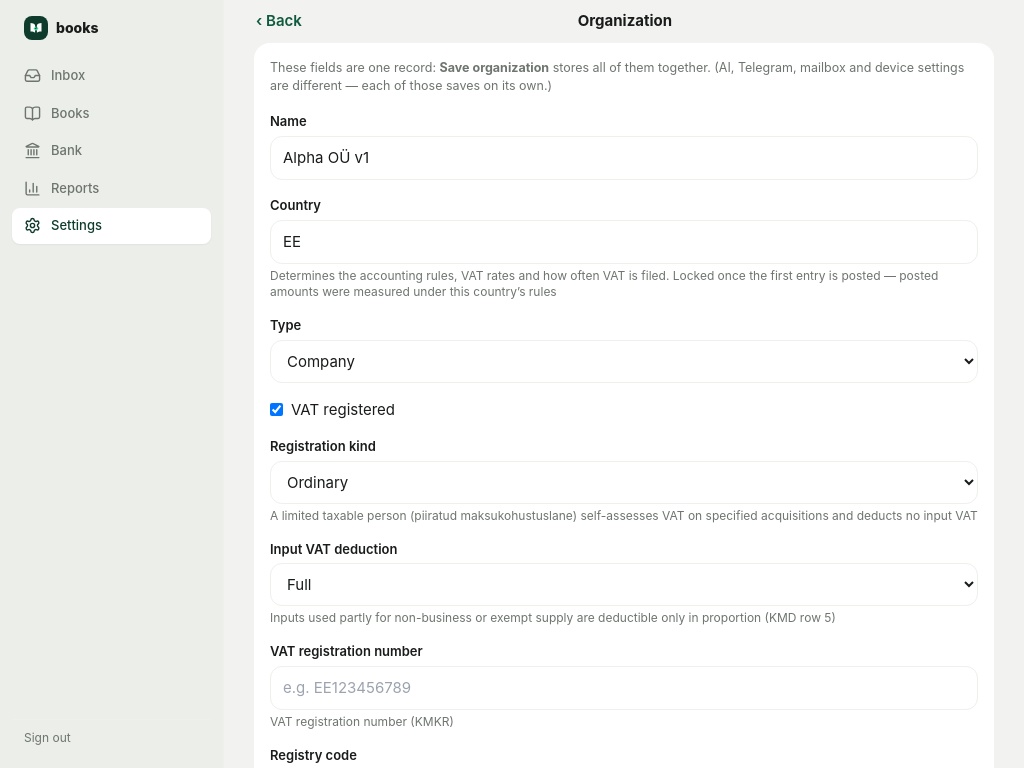
Test: access that ends after sign-in (#285) › explicit sign-out says so
The width and height of the screenshot is (1024, 768).
Click the button "Sign out".
click(112, 738)  # box [12,719,211,756]
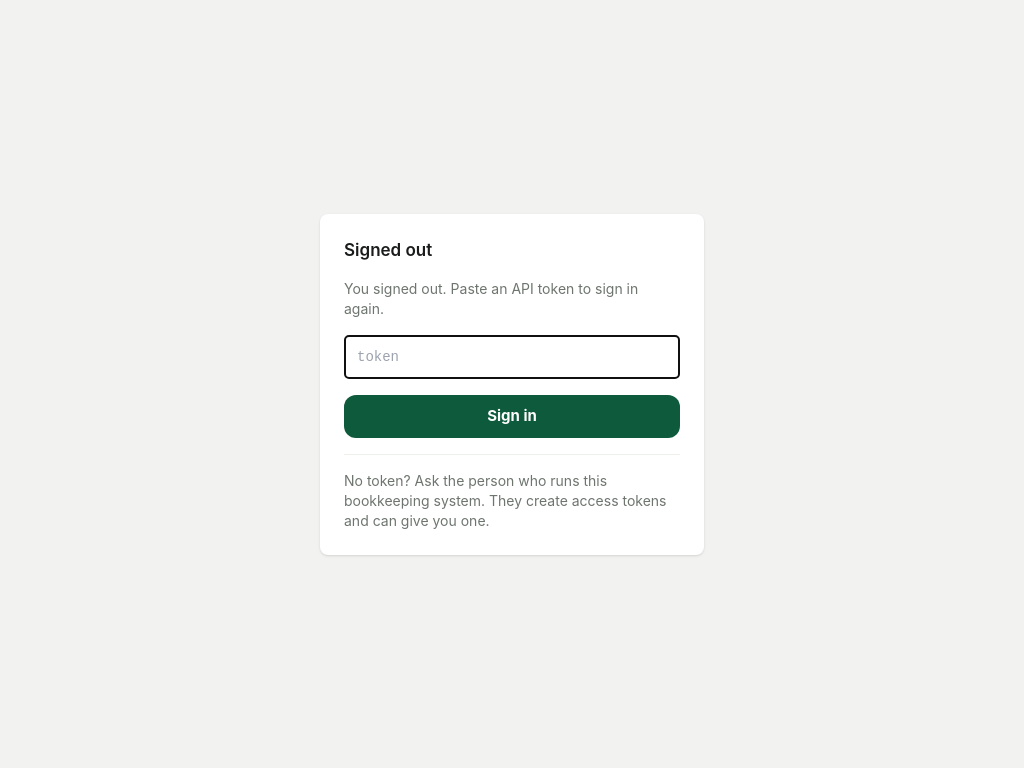
Expected: the heading reads "Signed out", [344,240,432,260]
Expected: the text "You signed out. Paste an API token to sign in again." is shown, [344,279,680,319]
